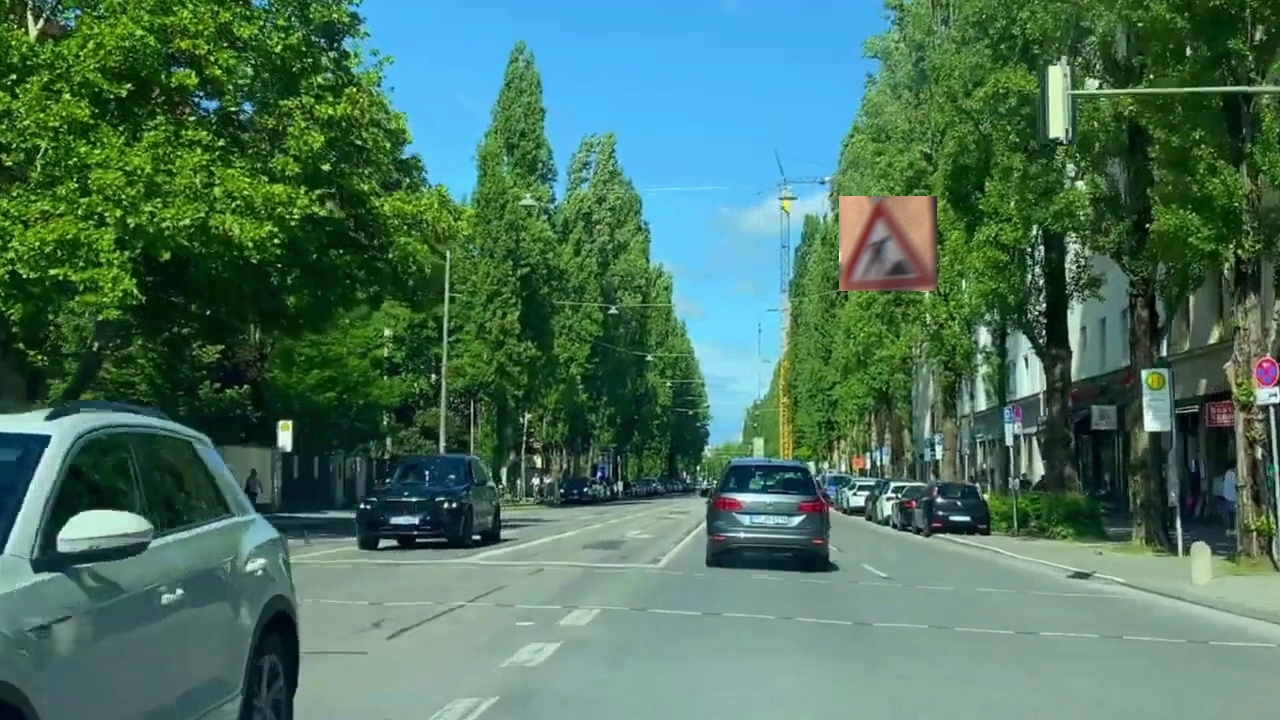Road work: (839, 196, 937, 291)
